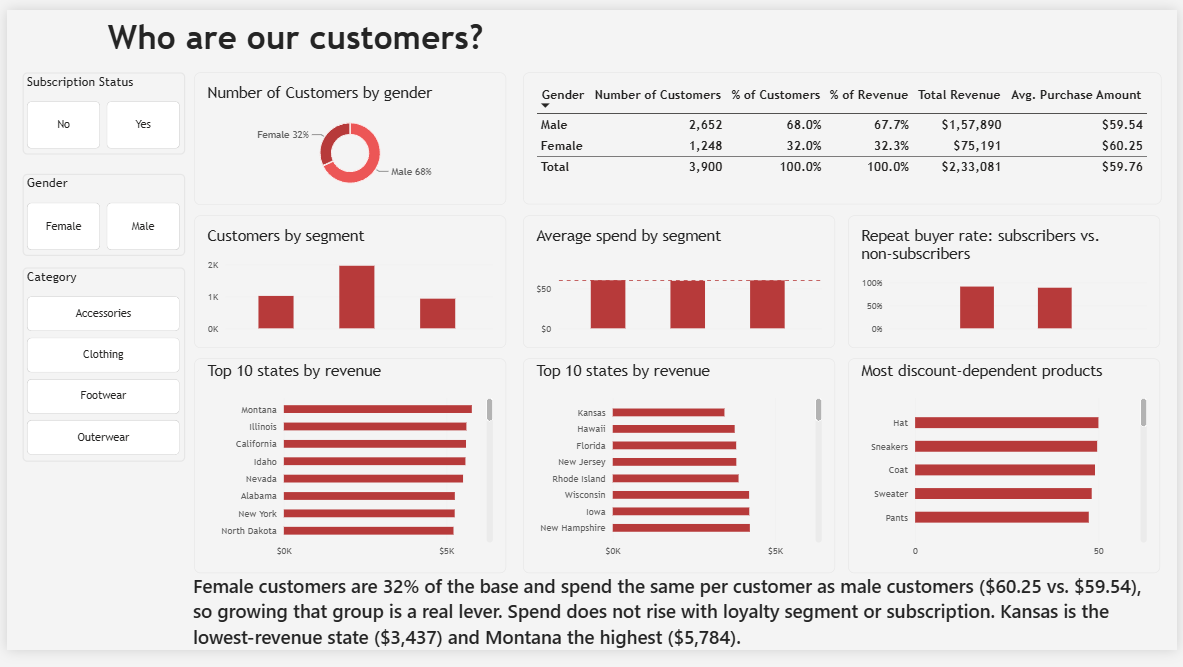

This screenshot's page, from the dashboard's own definition file:
{"tool":"powerbi","page":{"name":"Customers & Segments","canvas":[1500,820],"ordinal":2},"visuals":[{"type":"textbox","box":[20,10,700,70],"z":0},{"type":"advancedSlicerVisual","fields":{"Values":["public customer.subscription_status"]},"box":[20.3,79.7,208.5,105.1],"z":1000},{"type":"advancedSlicerVisual","fields":{"Values":["public customer.gender"]},"box":[20.3,210.2,208.5,105.1],"z":2000},{"type":"advancedSlicerVisual","fields":{"Values":["public customer.category"]},"box":[20.3,330.5,208.5,249.2],"z":3000},{"type":"donutChart","fields":{"Category":["public customer.gender"],"Y":["public customer.Number of Customers"]},"box":[240,80,400,170],"z":4000},{"type":"tableEx","fields":{"Values":["public customer.gender","public customer.Number of Customers","public customer.% of Customers","public customer.% of Revenue","public customer.Total Revenue","public customer.Average Purchase Amount"]},"box":[661.7,80,818.6,169.5],"z":5000},{"type":"clusteredColumnChart","title":"Customers by segment","fields":{"Category":["public customer.customer_segment"],"Y":["public customer.Number of Customers"]},"box":[240,263.3,400,183.3],"z":6000},{"type":"clusteredColumnChart","title":"Average spend by segment","fields":{"Category":["public customer.customer_segment"],"Y":["public customer.Average Purchase Amount"]},"box":[661.7,263.3,400,183.3],"z":7000},{"type":"clusteredColumnChart","title":"Repeat buyer rate: subscribers vs. non-subscribers","fields":{"Category":["public customer.subscription_status"],"Y":["public customer.Repeat Buyer Rate %"]},"box":[1078.3,263.3,400,183.3],"z":8000},{"type":"clusteredBarChart","title":"Top 10 states by revenue","fields":{"Category":["public customer.location"],"Y":["public customer.Total Revenue"]},"box":[240,455,400,266.7],"z":9000},{"type":"clusteredBarChart","title":"Bottom 10 states by revenue","fields":{"Category":["public customer.location"],"Y":["public customer.Total Revenue"]},"box":[661.7,455,400,266.7],"z":9001},{"type":"clusteredBarChart","title":"Most discount-dependent products","fields":{"Category":["public customer.item_purchased"],"Y":["public customer.Discount Rate %"]},"box":[1078.3,455,400,266.7],"z":9002},{"type":"textbox","box":[238.3,721.7,1240,98.3],"z":9003}]}

Visuals, with their boxes on the page's 1500x820 design canvas (x1, y1, x2, y2). These are canvas units, not pixel positions in the 1183x667 screenshot, which may show the page scaled, cropped or inside an application window:
textbox: bbox(20, 10, 720, 80)
advancedSlicerVisual - public customer.subscription_status: bbox(20, 80, 229, 185)
advancedSlicerVisual - public customer.gender: bbox(20, 210, 229, 315)
advancedSlicerVisual - public customer.category: bbox(20, 330, 229, 580)
donutChart - public customer.gender x public customer.Number of Customers: bbox(240, 80, 640, 250)
tableEx - public customer.gender x public customer.Number of Customers: bbox(662, 80, 1480, 250)
"Customers by segment" clusteredColumnChart: bbox(240, 263, 640, 447)
"Average spend by segment" clusteredColumnChart: bbox(662, 263, 1062, 447)
"Repeat buyer rate: subscribers vs. non-subscribers" clusteredColumnChart: bbox(1078, 263, 1478, 447)
"Top 10 states by revenue" clusteredBarChart: bbox(240, 455, 640, 722)
"Bottom 10 states by revenue" clusteredBarChart: bbox(662, 455, 1062, 722)
"Most discount-dependent products" clusteredBarChart: bbox(1078, 455, 1478, 722)
textbox: bbox(238, 722, 1478, 820)
